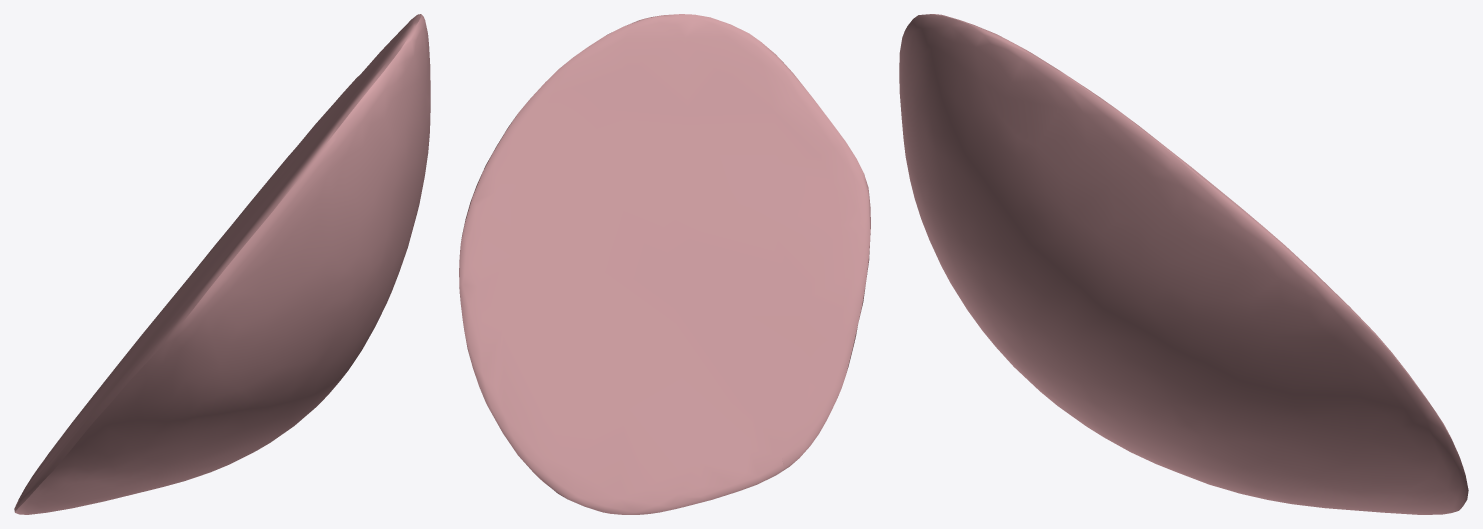
The model's file is fma223291_mm628.glb.
The picture shows the model from 3 angles, left to right: view 1: azimuth 30°, elevation 25°; view 2: azimuth 150°, elevation 25°; view 3: azimuth 270°, elevation 25°; orthographic projection. The views are drawn at different scales.
Visible parts, largest first — view 1: FMA223291_MM628; view 2: FMA223291_MM628; view 3: FMA223291_MM628.
Boxes of the visible parts, x1=… form: FMA223291_MM628: x1=14, y1=14, x2=430, y2=514; FMA223291_MM628: x1=459, y1=14, x2=870, y2=514; FMA223291_MM628: x1=899, y1=14, x2=1468, y2=514.
Bounding box in the file's own units: 0.027 × 0.0318 × 0.0297.
